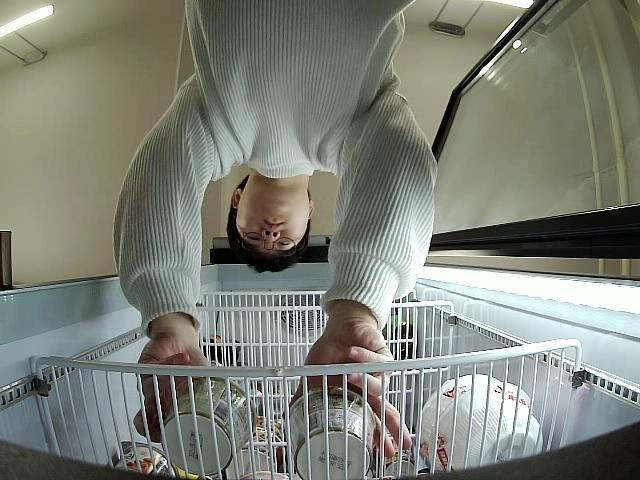04_chapagetti_S: (163, 376, 258, 474), (286, 387, 378, 480)
